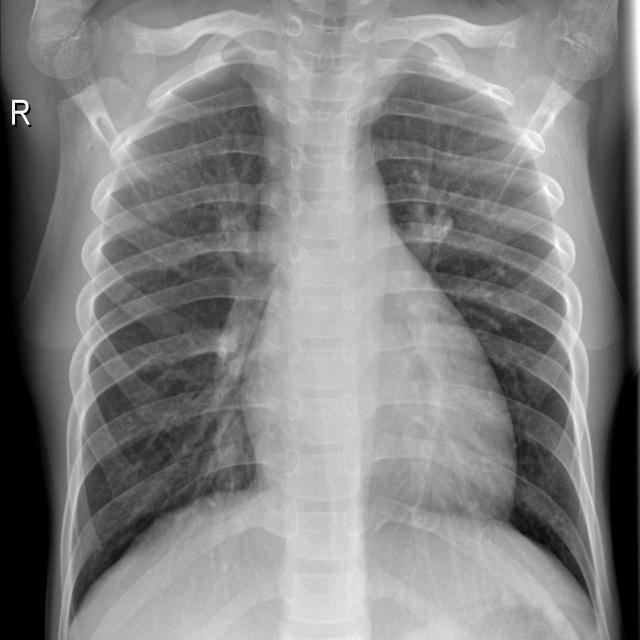no-pneumonia: (372, 73, 604, 618), (63, 65, 284, 627)
